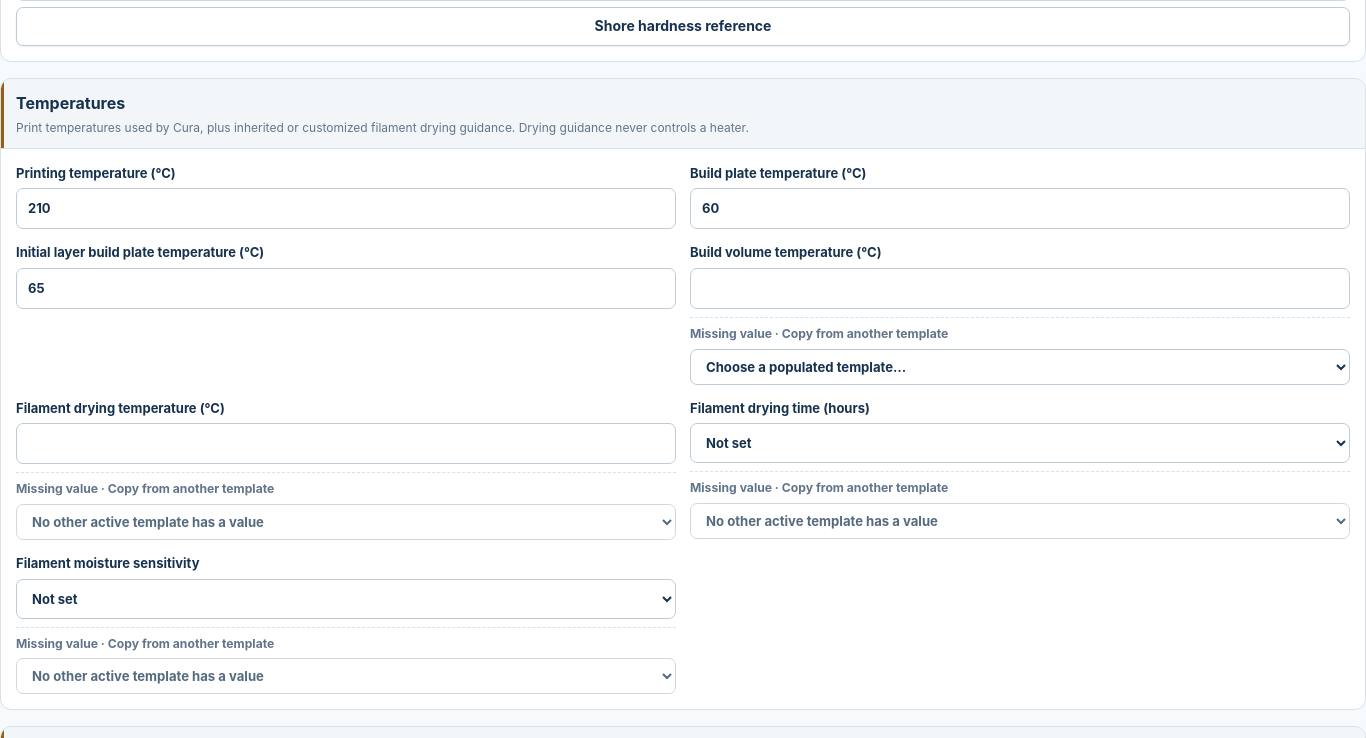
it: MaterialSettingsEditor validation › copies a blank setting from any active template source and then hides the chooser
This screenshot has width=1366, height=738.
(page scrolled)
Select "Template PETG · Workshop printer · 0.4 mm · 45" in the dropdown named "Copy Build volume temperature from another template" at (1020, 367), box left=690, top=349, right=1350, bottom=385
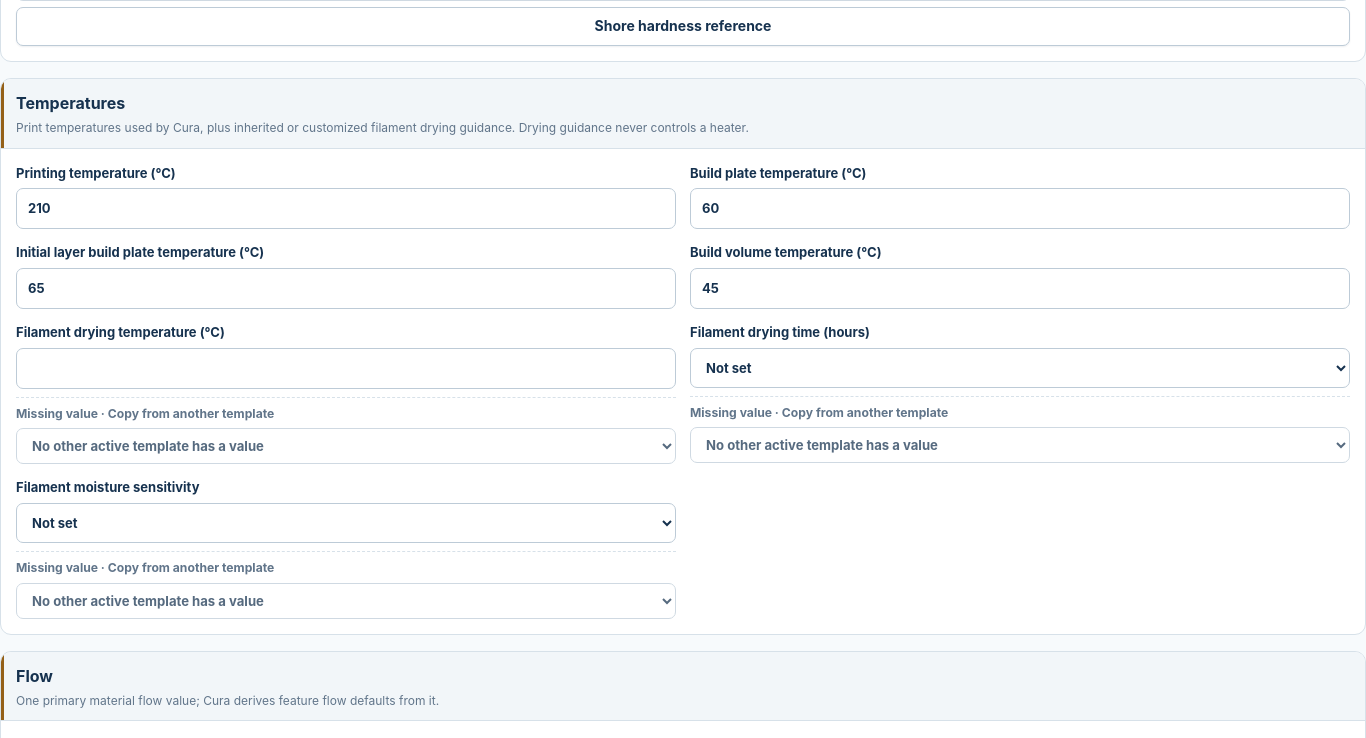
Expected: the number field labelled "Build volume temperature (°C)" holds "45", left=690, top=268, right=1350, bottom=309
